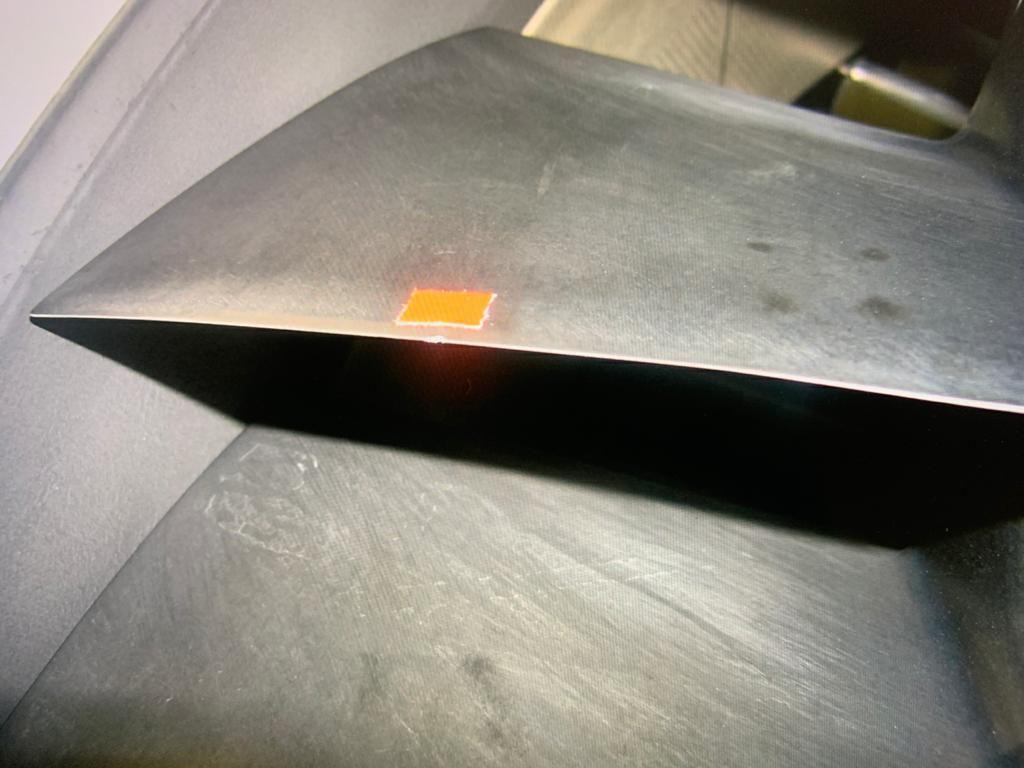nick: (420, 332, 449, 344)
